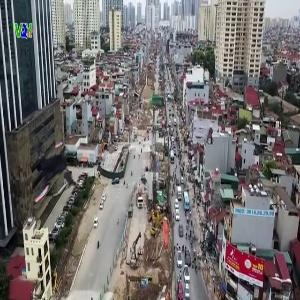drone: (4, 132, 88, 216)
